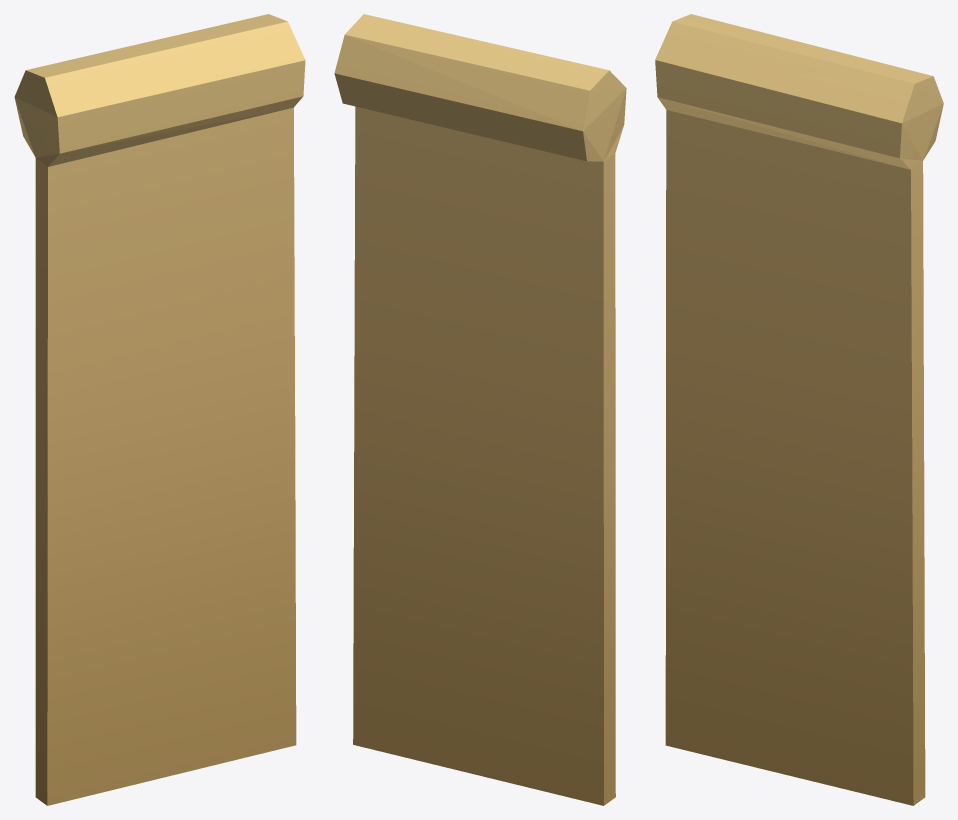
File: MarketStall_Flag_Blank_Yellow.fbx
3 views of the same model, side by side, from view 1: azimuth 30°, elevation 25°; view 2: azimuth 150°, elevation 25°; view 3: azimuth 330°, elevation 25° (orthographic).
Parts seen in each view (by area): view 1: MarketStall_Flag_Blank_Yellow; view 2: MarketStall_Flag_Blank_Yellow; view 3: MarketStall_Flag_Blank_Yellow.
Boxes of the visible parts, x1,y1,x2,y2 form: MarketStall_Flag_Blank_Yellow: (14,14,305,805); MarketStall_Flag_Blank_Yellow: (334,14,626,805); MarketStall_Flag_Blank_Yellow: (655,14,943,805).
Bounding box in the file's own units: 0.3827 × 1.06 × 0.1149.
1 material, 1 textured.
